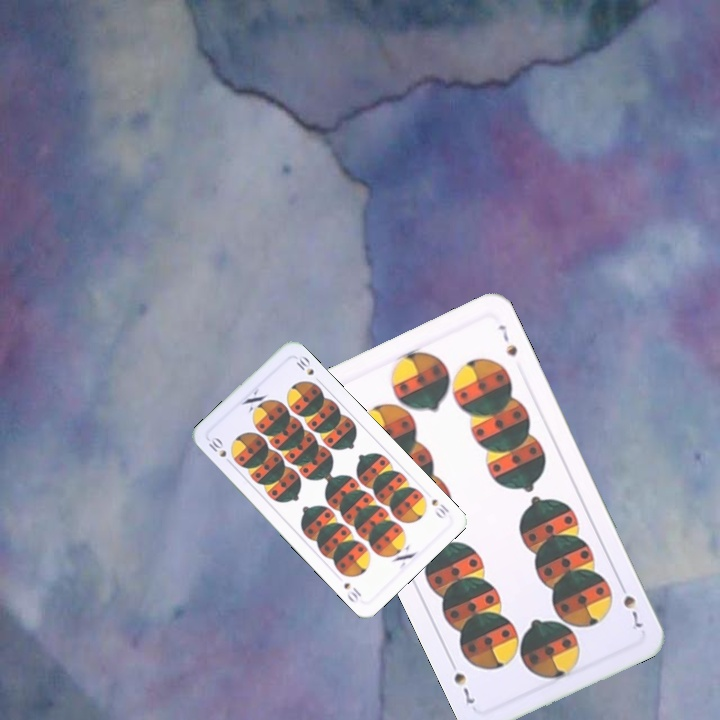S10: (202, 433, 235, 468), (427, 495, 452, 522)
S7: (615, 577, 646, 634)
